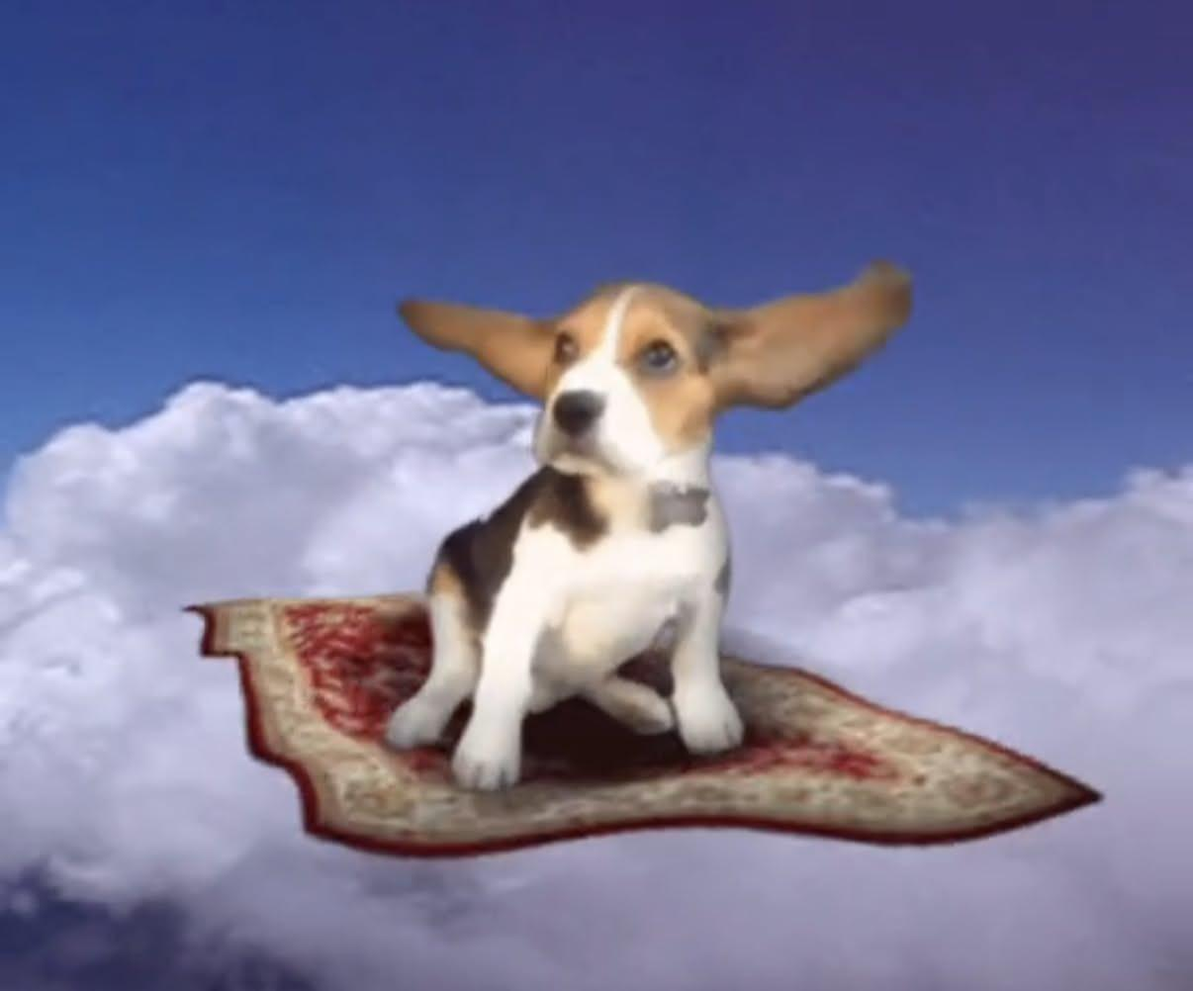puppy-dog: (389, 249, 913, 796)
